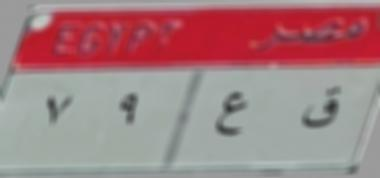7: (37, 80, 82, 143)
9: (109, 89, 160, 137)
ain: (209, 84, 252, 150)
qaaf: (293, 79, 350, 134)
